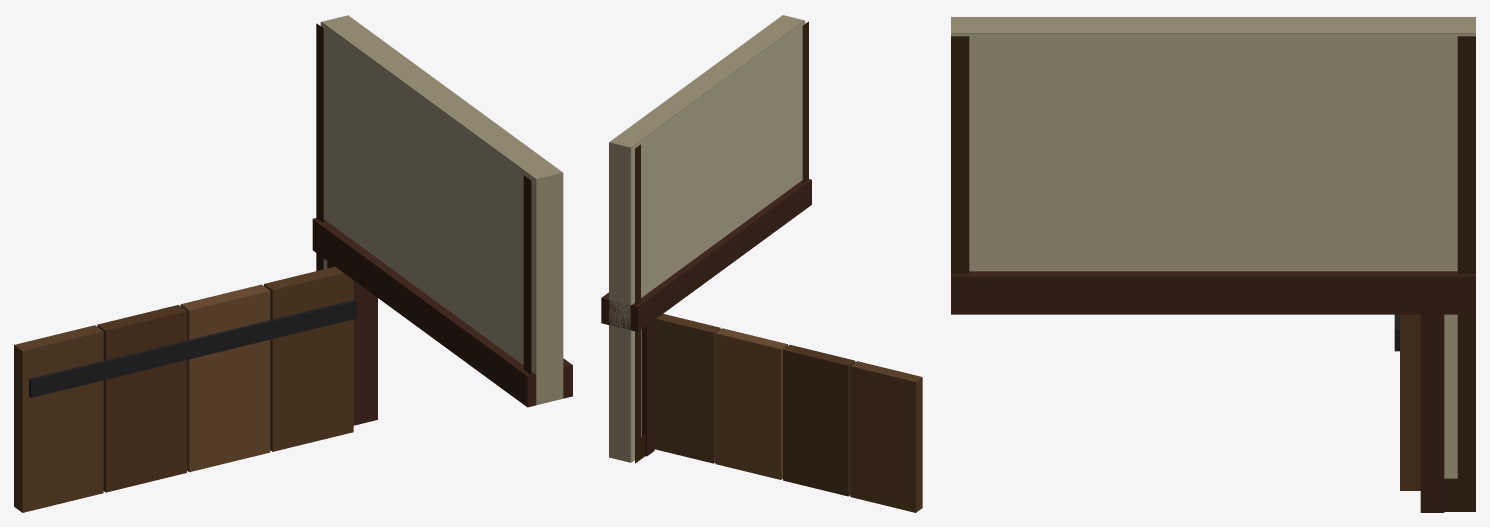
File: wall-halftimber-door-open-high-l.glb
The picture shows the model from 3 angles, left to right: view 1: azimuth 30°, elevation 25°; view 2: azimuth 150°, elevation 25°; view 3: azimuth 270°, elevation 25°; orthographic projection. The views are drawn at different scales.
Visible parts, largest first — view 1: wall-halftimber-door-open-high-l; view 2: wall-halftimber-door-open-high-l; view 3: wall-halftimber-door-open-high-l.
Boxes of the visible parts, box(x1,y1,x2,y2) form: wall-halftimber-door-open-high-l: box(14, 15, 572, 512); wall-halftimber-door-open-high-l: box(601, 15, 922, 512); wall-halftimber-door-open-high-l: box(951, 17, 1475, 512).
Size of the model in its own units: 0.984 by 1 by 1.
